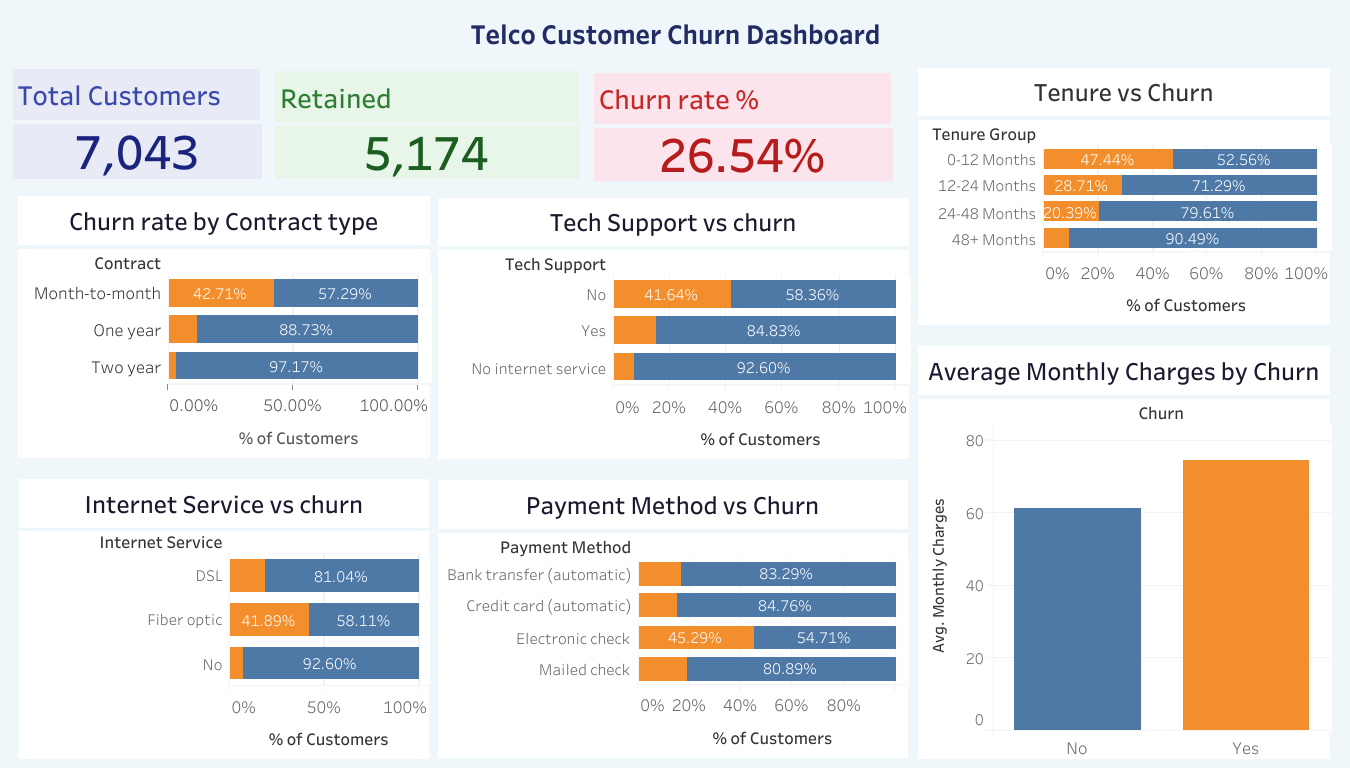

The dashboard page shown, as its layout file describes it:
{"tool":"tableau","page":{"name":"Dashboard 1","canvas":[1000,1000],"units":"permille","ordinal":0},"visuals":[{"type":"title","box":[6.1,13.9,987.8,62.7]},{"type":"worksheet","title":"churned customer","mark":"Automatic","box":[325.3,79.9,303.6,146.1]},{"type":"worksheet","title":"total  customer","mark":"Automatic","box":[11.5,81.2,263.1,136.1]},{"type":"worksheet","title":"churn rate","mark":"Automatic","box":[679.4,87.1,303.9,142.9]},{"type":"worksheet","title":"tenure vs churn","mark":"Automatic","rows":["Calculation_1408537793249289"],"box":[510.3,243.9,473.7,386.8]},{"type":"worksheet","title":"churn rate by contract type","mark":"Automatic","rows":["Contract"],"box":[12.7,244.7,479.2,384.5]},{"type":"worksheet","title":"internet service vs churn","mark":"Automatic","rows":["InternetService"],"box":[13.3,646.7,275.2,339.6]},{"type":"worksheet","title":"payment method vs churn","mark":"Automatic","rows":["PaymentMethod"],"box":[299.9,652.9,303.6,332.1]},{"type":"worksheet","title":"average monthly charges by churn","mark":"Bar","rows":["MonthlyCharges"],"cols":["Churn"],"box":[616.9,658.5,368.6,332.8]}]}

Visuals, with their boxes on the dashboard's canvas, which has no fixed pixel size, in thousandths of its width and height (x1, y1, x2, y2). These are canvas units, not pixel positions in the 1350x768 screenshot, which may show the page scaled, cropped or inside an application window:
title: bbox=(6, 14, 994, 77)
"churned customer" worksheet: bbox=(325, 80, 629, 226)
"total  customer" worksheet: bbox=(12, 81, 275, 217)
"churn rate" worksheet: bbox=(679, 87, 983, 230)
"tenure vs churn" worksheet: bbox=(510, 244, 984, 631)
"churn rate by contract type" worksheet: bbox=(13, 245, 492, 629)
"internet service vs churn" worksheet: bbox=(13, 647, 288, 986)
"payment method vs churn" worksheet: bbox=(300, 653, 604, 985)
"average monthly charges by churn" worksheet (Bar marks): bbox=(617, 658, 986, 991)
